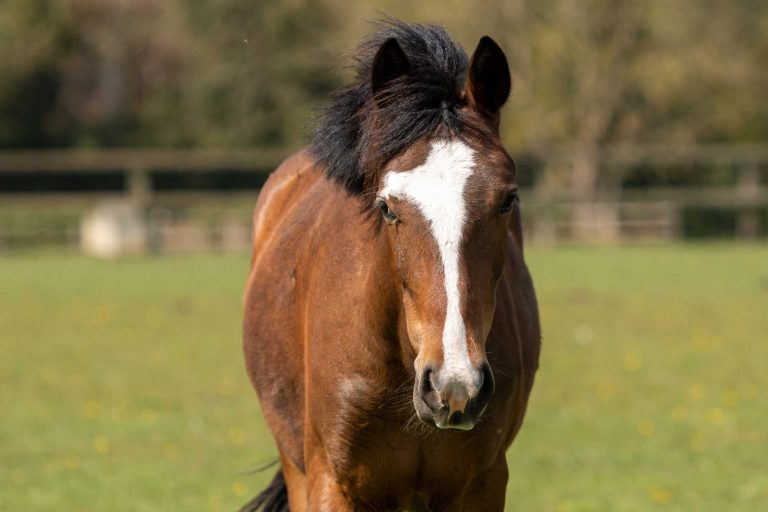Horse: (237, 12, 550, 505)
